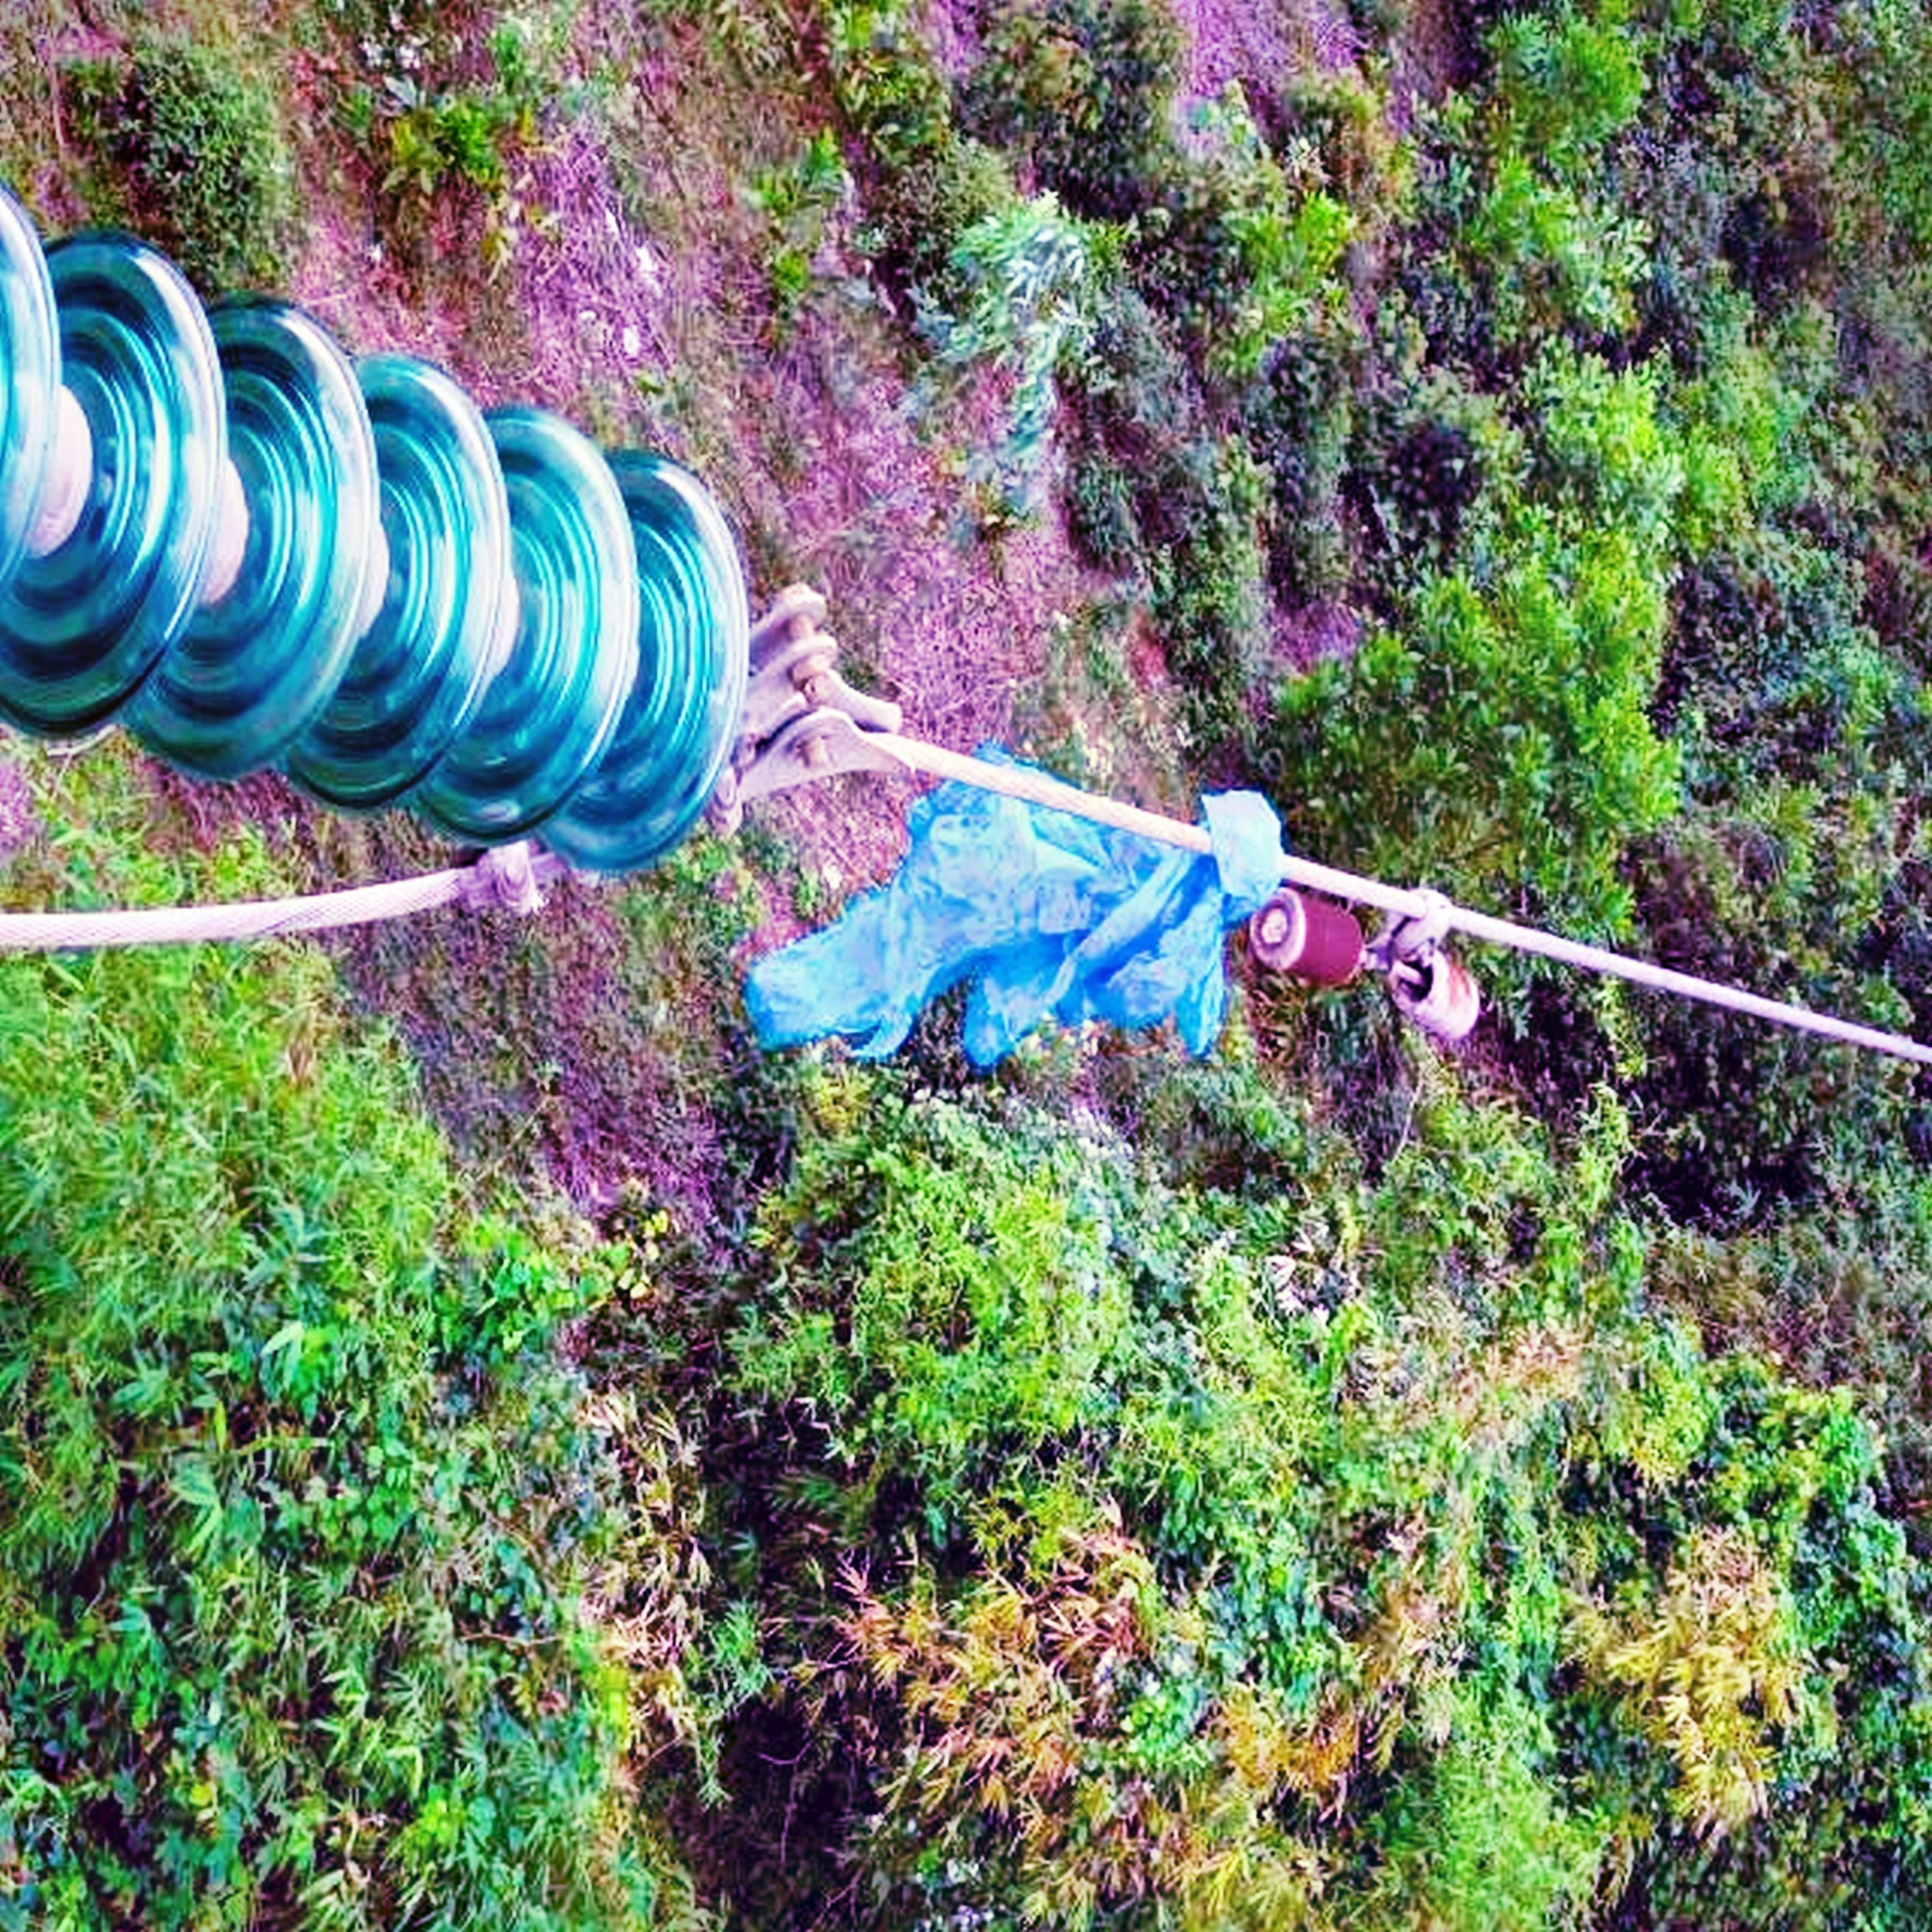wire foreign body: (695, 759, 1315, 1093)
